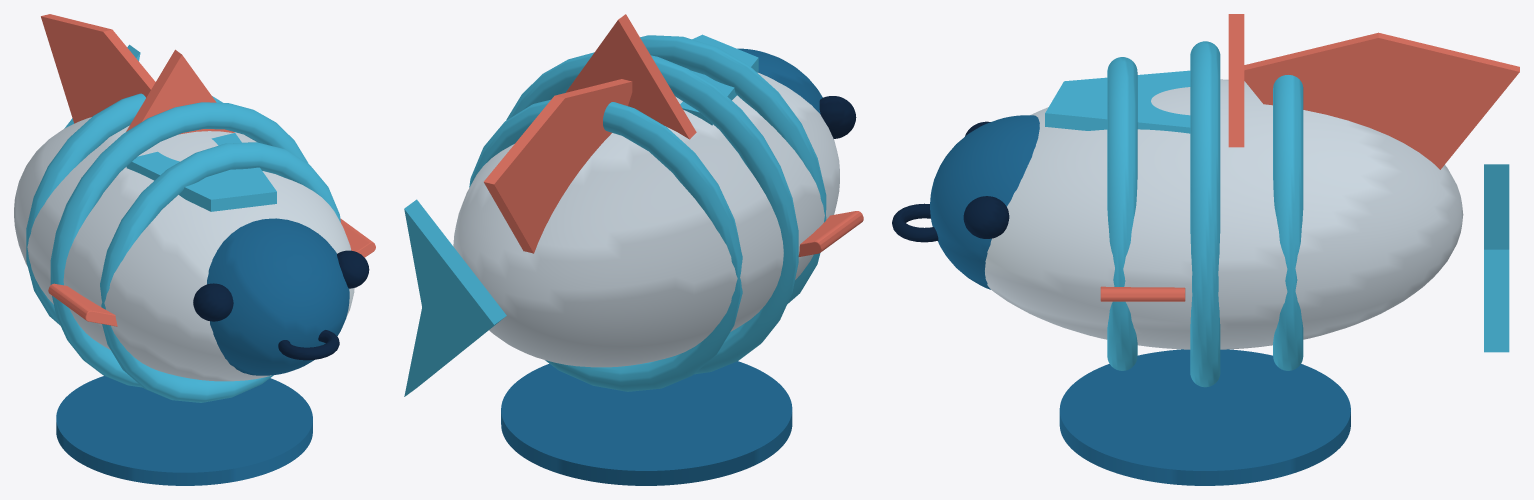
File: 0489_鱼类图鉴_柠檬鲨.glb
The picture shows the model from 3 angles, left to right: view 1: azimuth 30°, elevation 25°; view 2: azimuth 150°, elevation 25°; view 3: azimuth 270°, elevation 25°; orthographic projection. The views are drawn at different scales.
Visible parts, largest first — view 1: card_0489; view 2: card_0489; view 3: card_0489.
Part boxes in pixels (left/top/right/bottom): card_0489: left=14, top=14, right=375, bottom=485; card_0489: left=404, top=14, right=863, bottom=485; card_0489: left=892, top=14, right=1519, bottom=485.
Bounding box in the file's own units: 0.8276 × 1 × 1.37.
